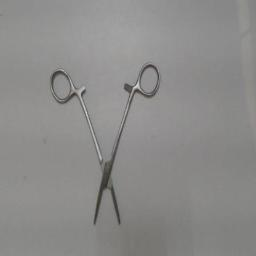Mayo Needle Holder: (47, 58, 163, 232)
